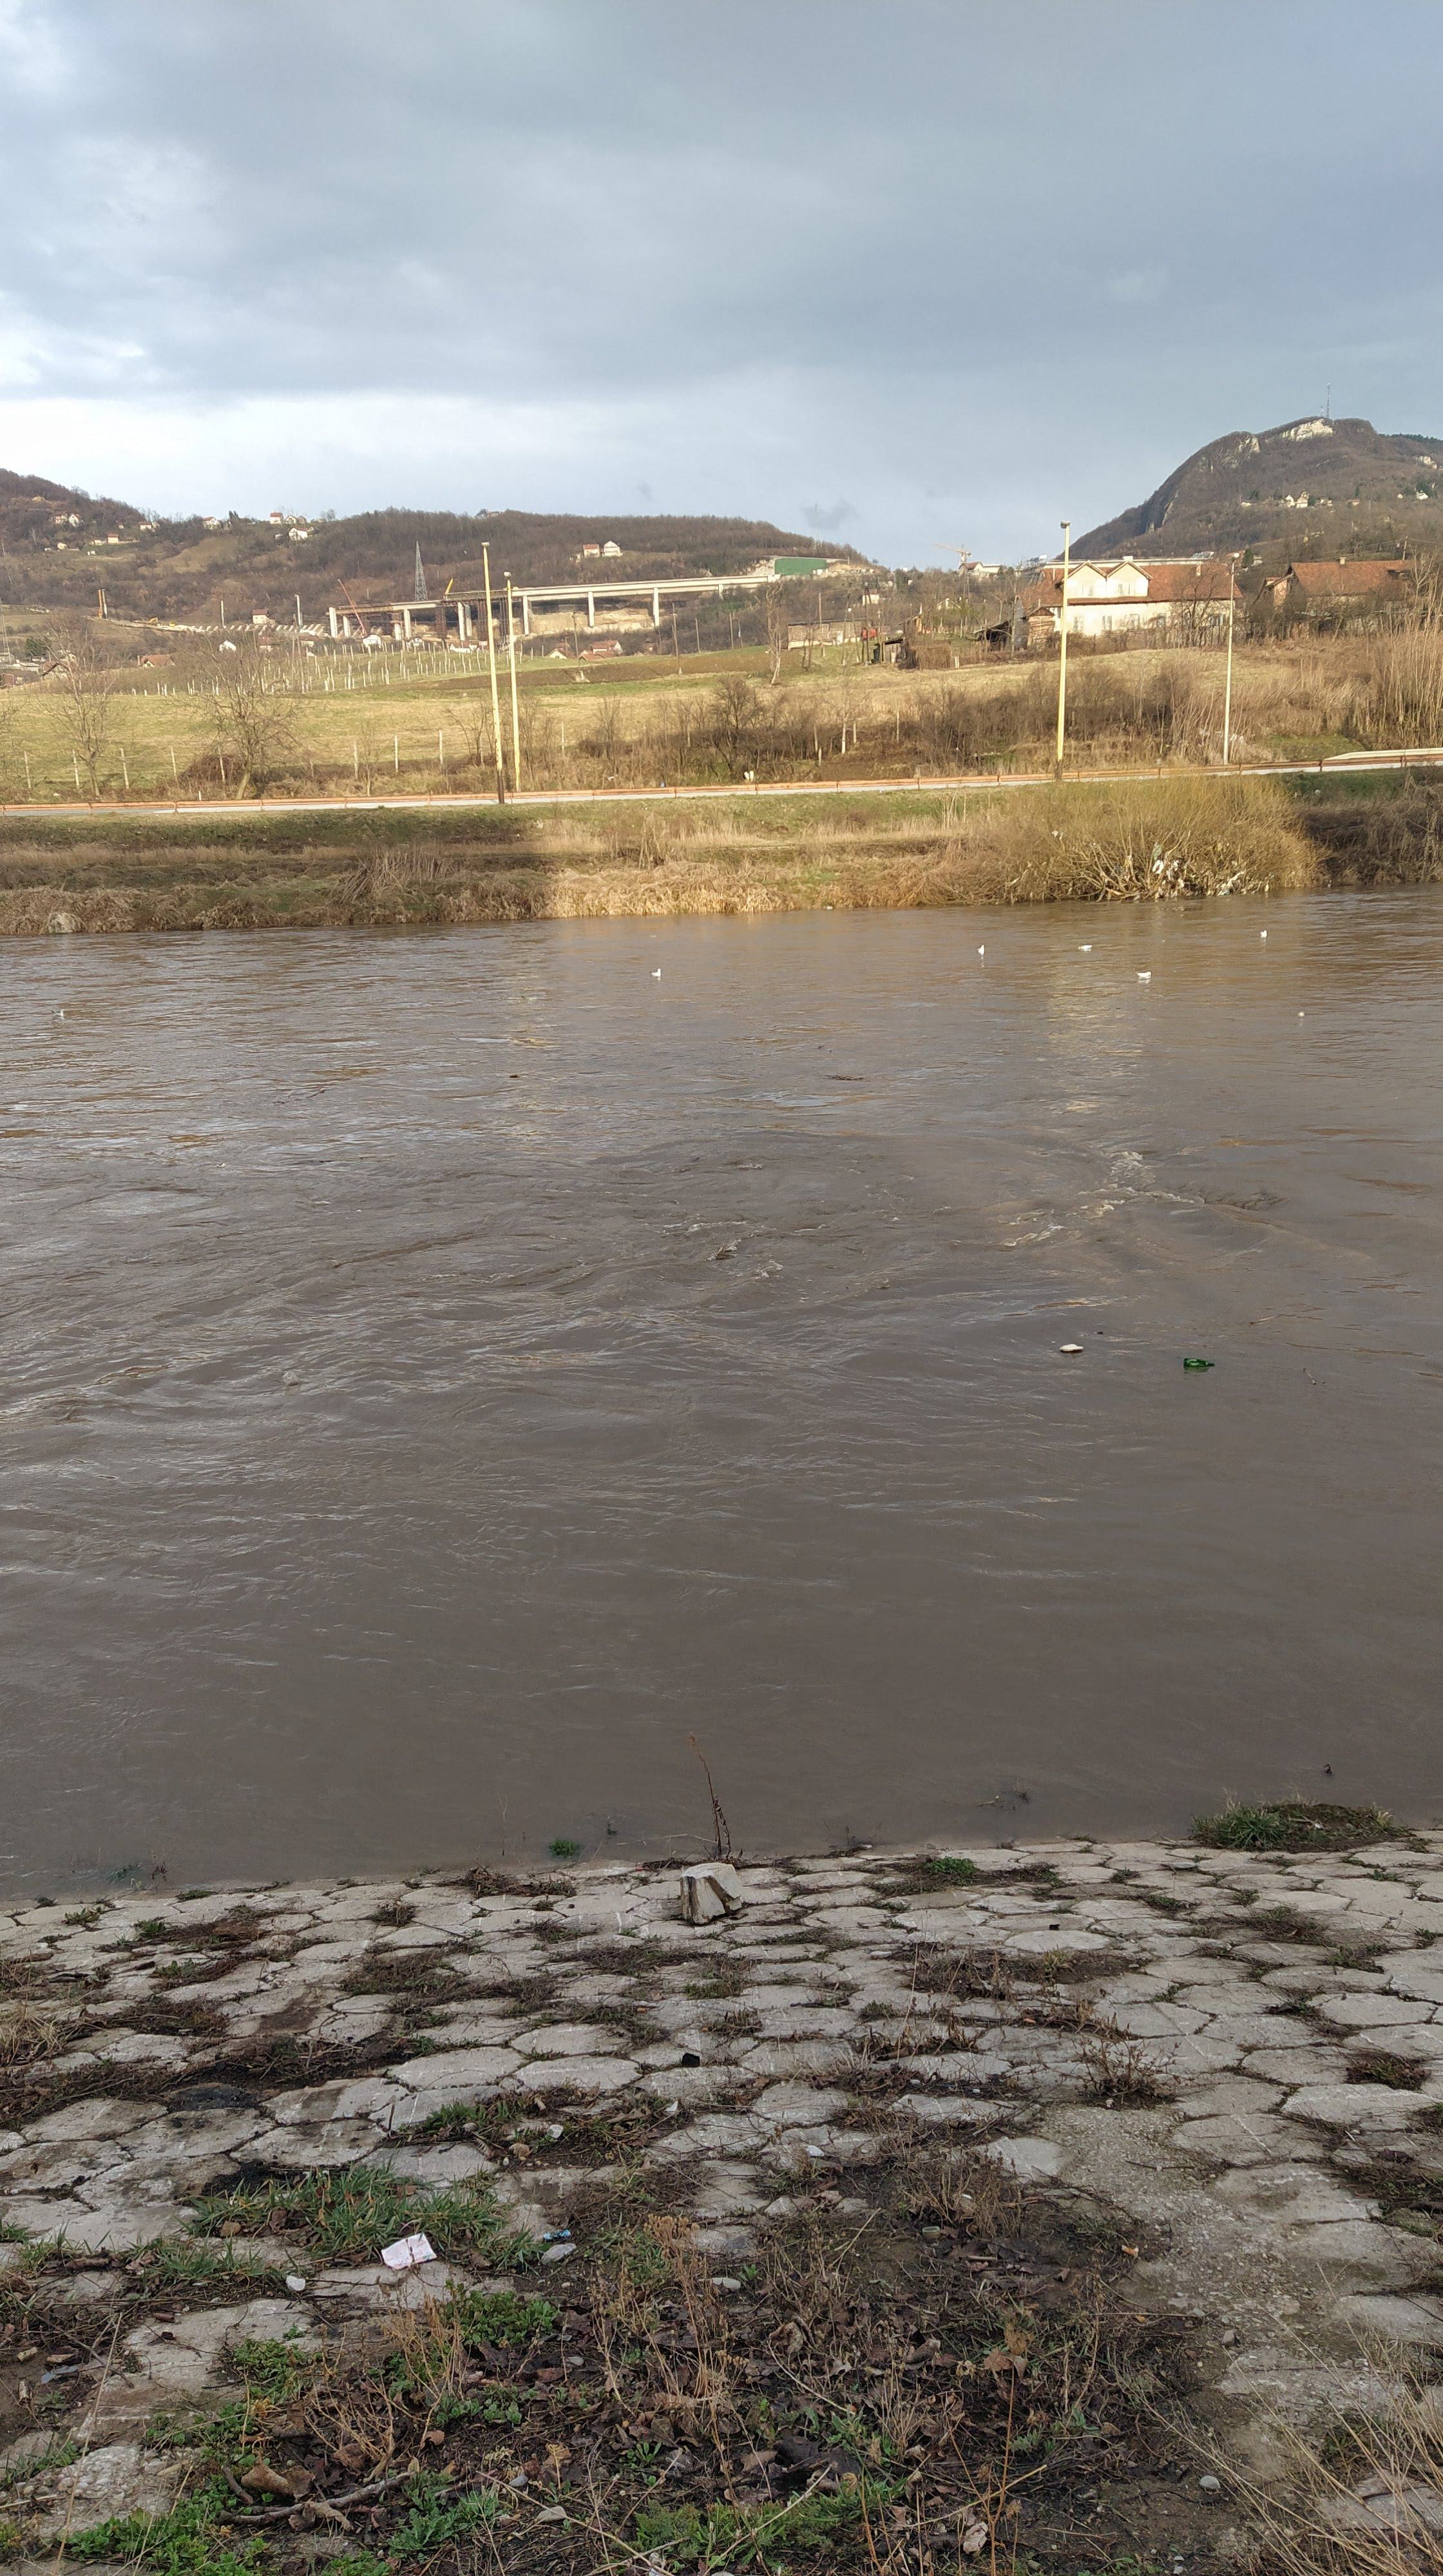Plastic Bottle: (1183, 1357, 1215, 1368), (282, 1371, 297, 1385), (1061, 1343, 1085, 1352), (1078, 943, 1092, 950), (1298, 1010, 1303, 1017), (508, 1074, 517, 1077)
